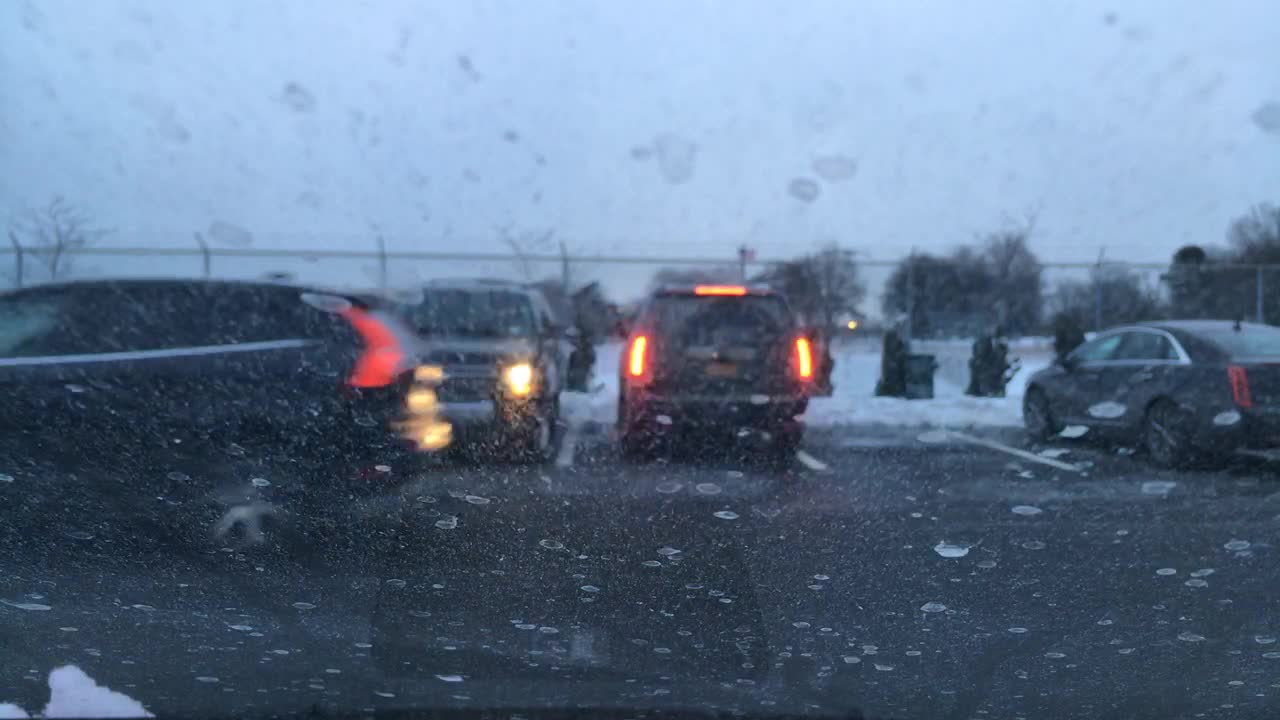car: (1, 275, 448, 578), (1022, 315, 1280, 479), (626, 280, 813, 469), (397, 277, 569, 455)
